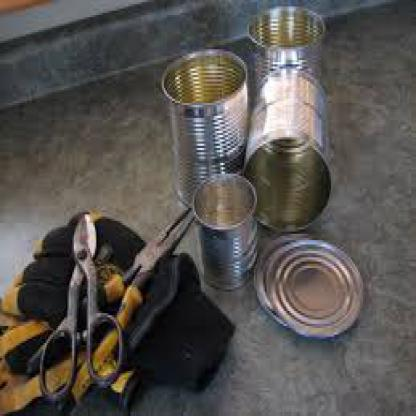METAL: (242, 62, 331, 230), (158, 47, 248, 208), (266, 240, 360, 335), (191, 170, 257, 289), (250, 229, 323, 326), (246, 4, 324, 86), (50, 208, 103, 281), (128, 208, 192, 268)
